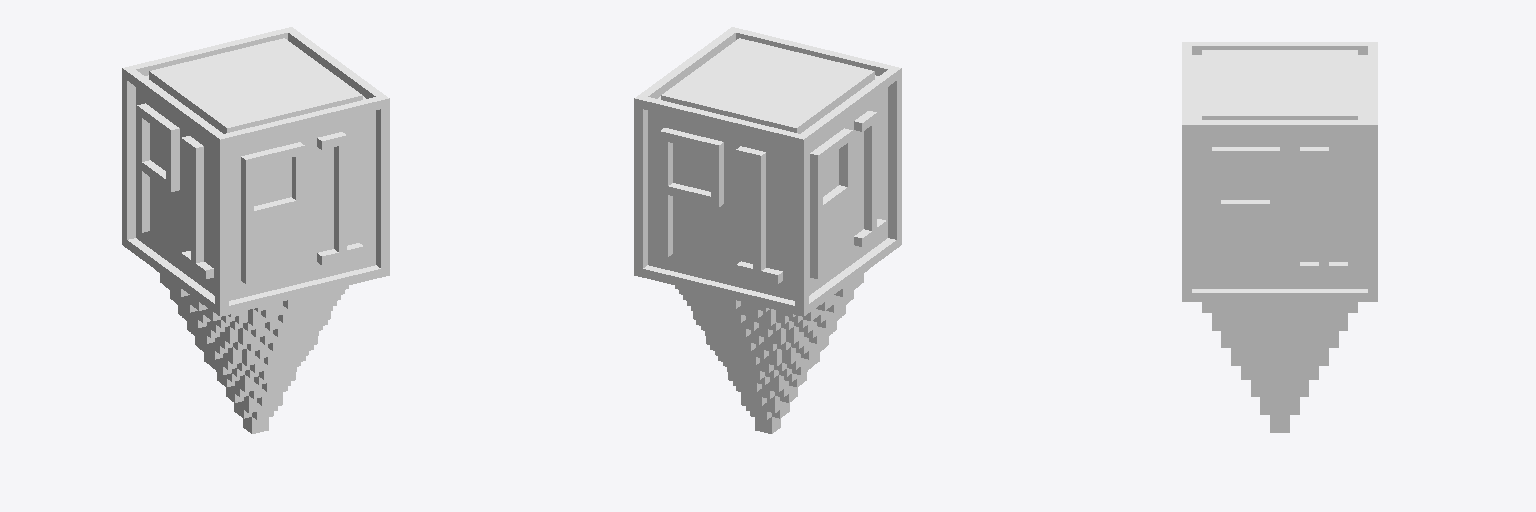
Rendered from player1.obj.
3 views of the same model, side by side, from view 1: azimuth 30°, elevation 25°; view 2: azimuth 150°, elevation 25°; view 3: azimuth 270°, elevation 25° (orthographic).
Size of the model in its own units: 20 by 39 by 20.